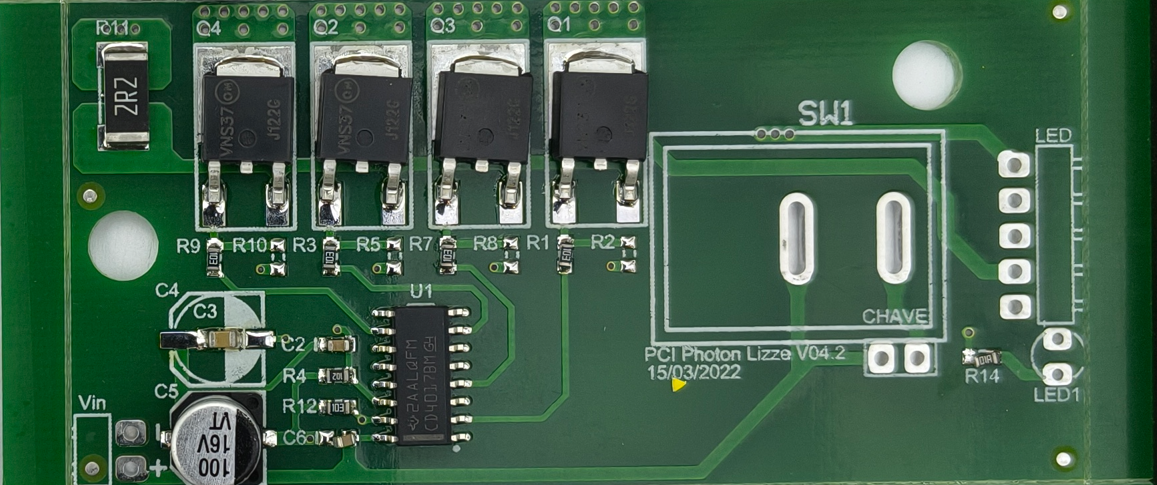C+: (311, 331, 358, 356)
C-: (314, 425, 361, 451)
R+: (434, 233, 462, 280), (318, 232, 345, 279), (314, 363, 358, 390), (202, 238, 227, 280), (554, 234, 575, 277), (318, 395, 358, 416)
R-: (954, 342, 1005, 369)
R/CFaltante: (380, 233, 408, 277), (498, 232, 525, 277), (265, 232, 289, 278), (617, 232, 642, 275)
U+: (367, 300, 479, 453)
